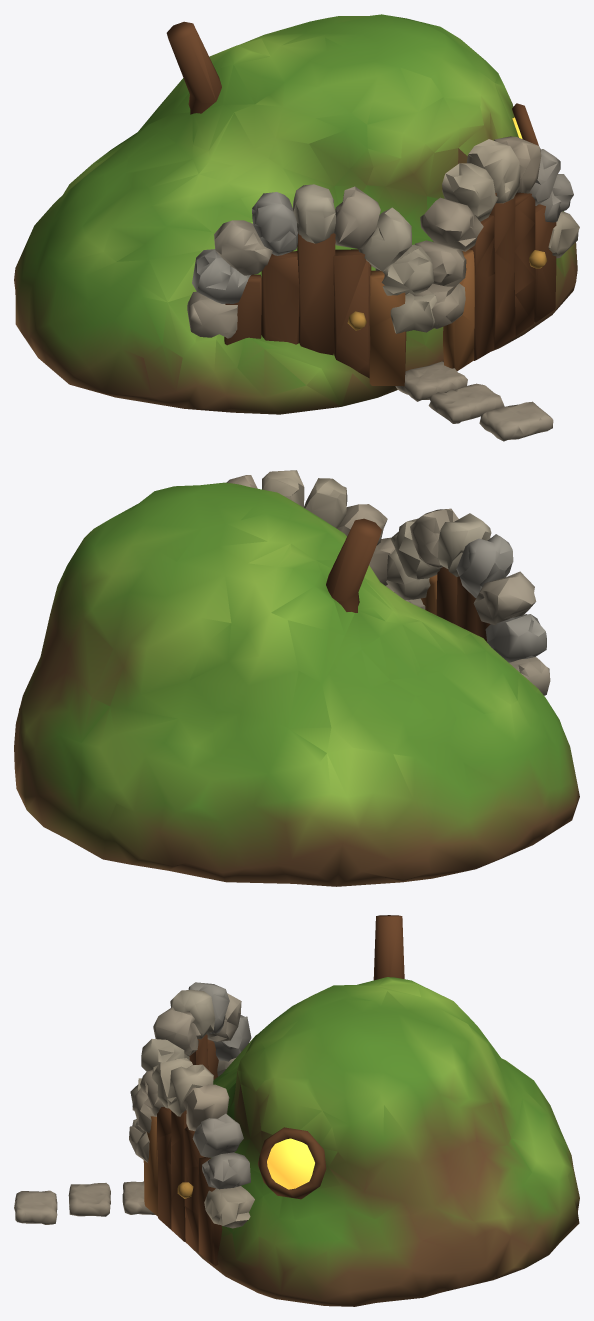
Rendered from glade_warren_burrow_b_lod1.glb.
3 views of the same model, one above another, from view 1: azimuth 30°, elevation 25°; view 2: azimuth 150°, elevation 25°; view 3: azimuth 270°, elevation 25° (orthographic). The views are drawn at different scales.
Parts seen in each view (by area): view 1: glade_warren_burrow_b.001; view 2: glade_warren_burrow_b.001; view 3: glade_warren_burrow_b.001.
Part boxes in pixels (bbox=[...]): glade_warren_burrow_b.001: bbox=[14, 14, 579, 441]; glade_warren_burrow_b.001: bbox=[14, 470, 579, 886]; glade_warren_burrow_b.001: bbox=[14, 915, 579, 1306].
Size of the model in its own units: 8.18 by 4.4 by 9.1.
